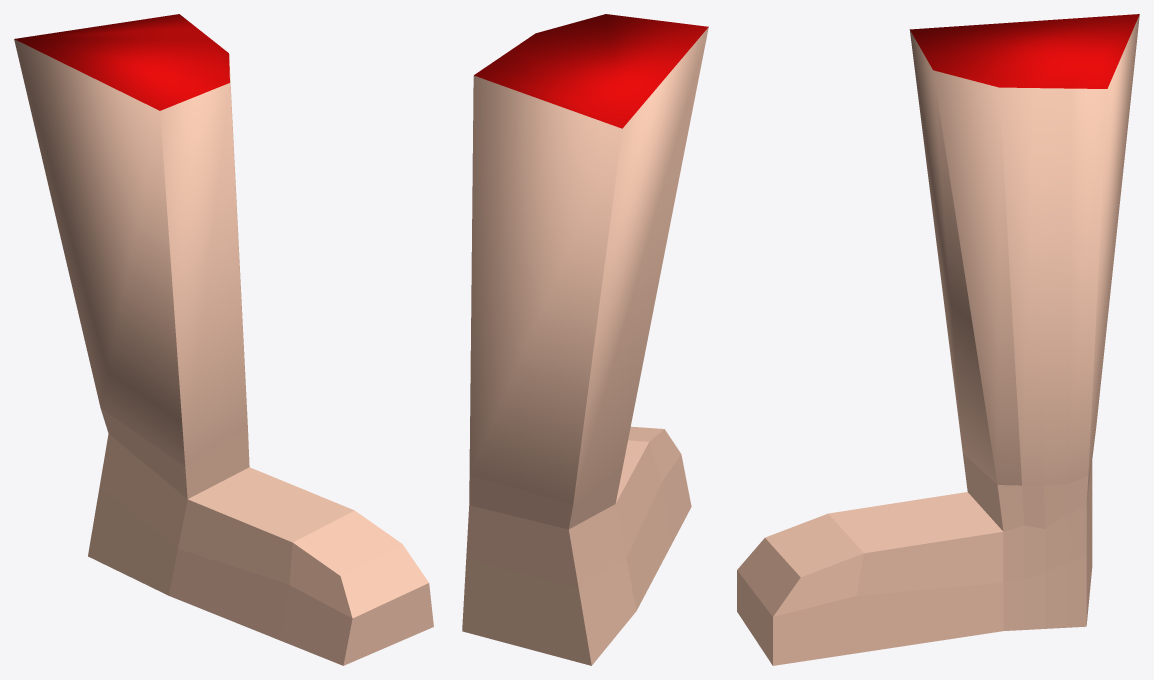
File: Leg.glb
The picture shows the model from 3 angles, left to right: view 1: azimuth 30°, elevation 25°; view 2: azimuth 150°, elevation 25°; view 3: azimuth 270°, elevation 25°; orthographic projection. The views are drawn at different scales.
Parts seen in each view (by area): view 1: character; view 2: character; view 3: character.
Boxes of the visible parts, x1=… form: character: x1=14, y1=14, x2=433, y2=665; character: x1=462, y1=14, x2=708, y2=665; character: x1=737, y1=14, x2=1139, y2=665.
Size of the model in its own units: 1.48 by 3.03 by 2.08.
